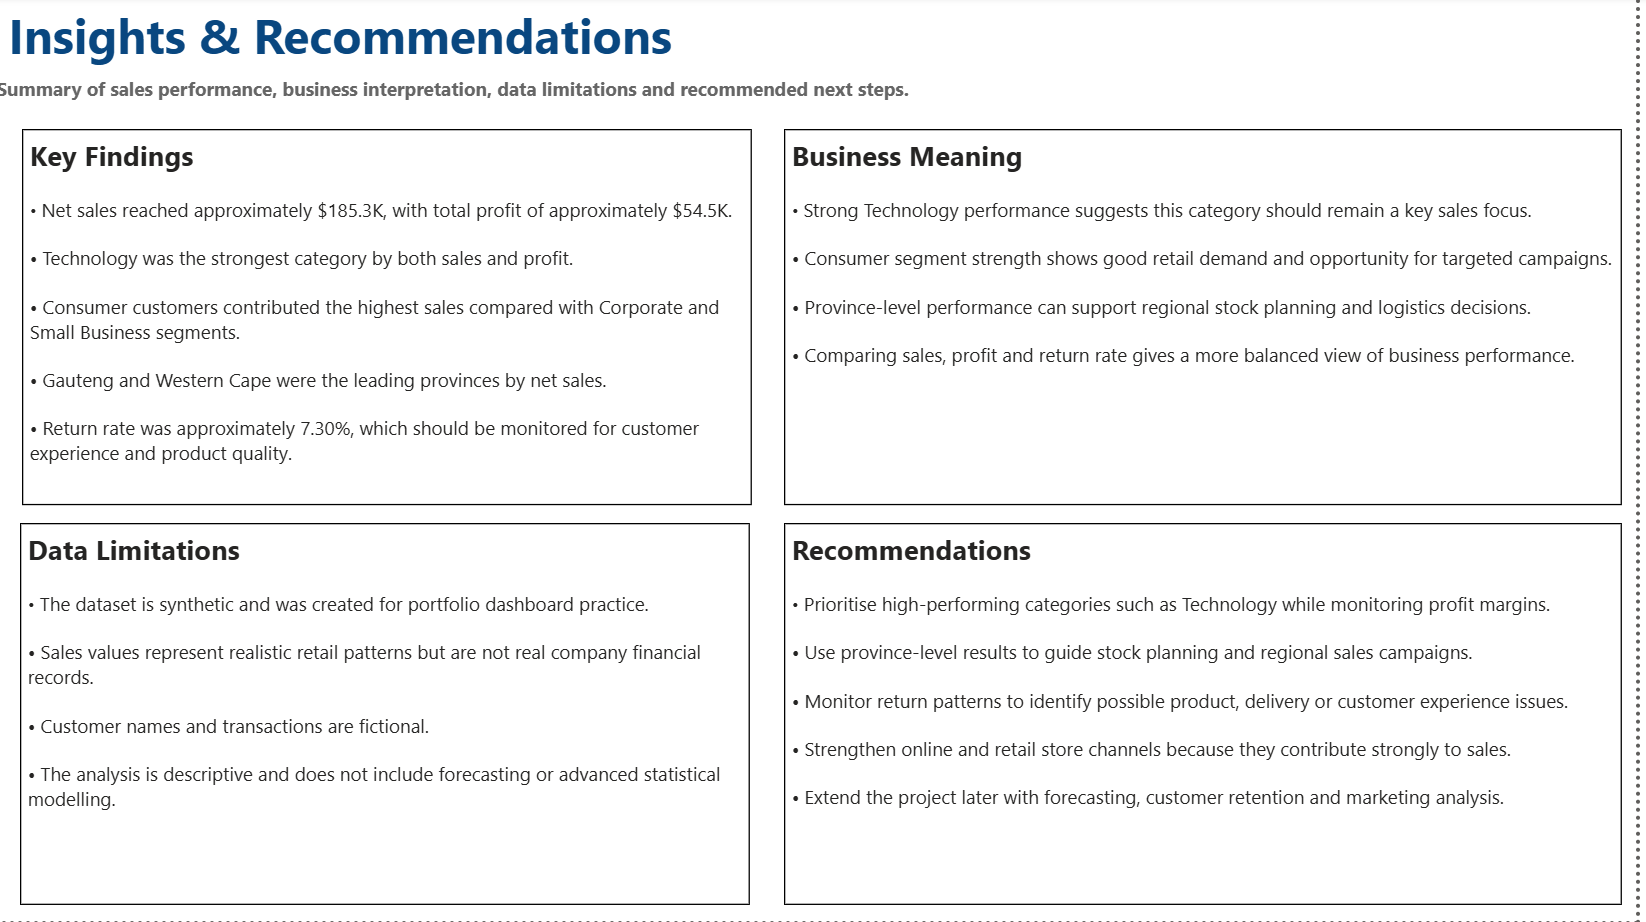

This screenshot's page, from the dashboard's own definition file:
{"tool":"powerbi","page":{"name":"Insights & Recommendations","canvas":[1280,720],"ordinal":4},"visuals":[{"type":"textbox","box":[9.3,0,548.9,57.5],"z":0},{"type":"textbox","box":[0,57.5,741.8,31.1],"z":1},{"type":"textbox","box":[24.9,104.2,567.6,292.4],"z":2},{"type":"textbox","box":[23.3,410.5,567.6,297],"z":3},{"type":"textbox","box":[617.4,104.2,651.6,292.4],"z":4},{"type":"textbox","box":[617.4,410.5,651.6,297],"z":5}]}

Visuals, with their boxes in screenshot pixels (x1, y1, x2, y2), scaled from the page's 1280x720 canvas onto the 1646x922 screenshot:
textbox: x1=12, y1=0, x2=718, y2=74
textbox: x1=0, y1=74, x2=954, y2=113
textbox: x1=32, y1=133, x2=762, y2=508
textbox: x1=30, y1=526, x2=760, y2=906
textbox: x1=794, y1=133, x2=1632, y2=508
textbox: x1=794, y1=526, x2=1632, y2=906
